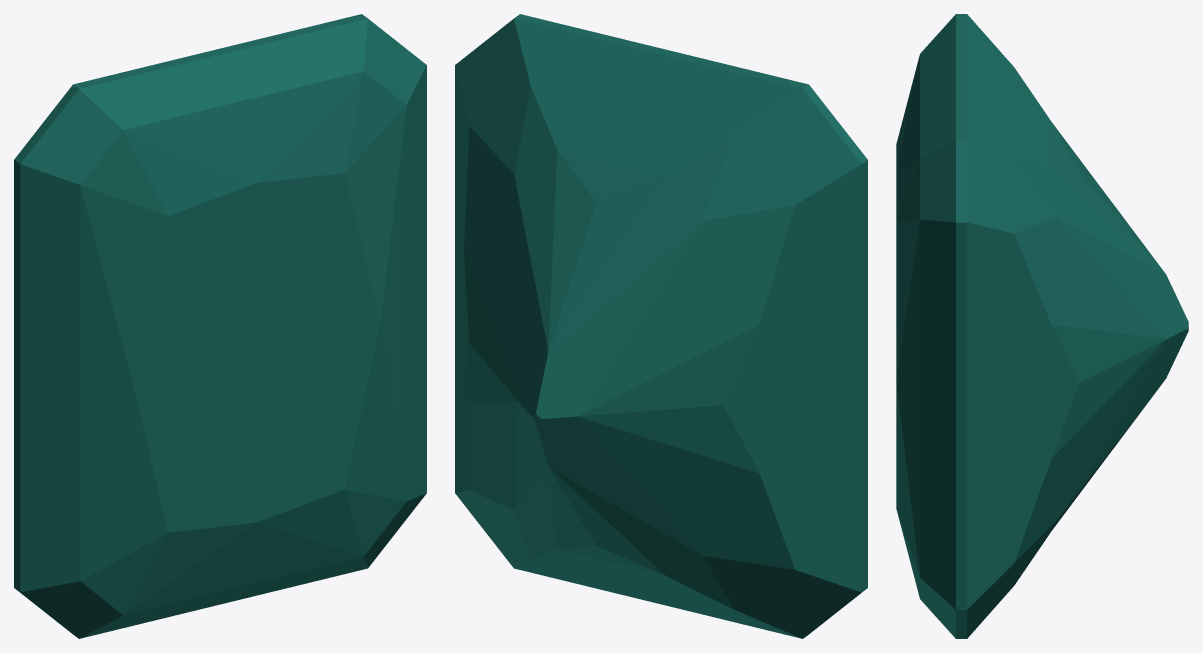
Rendered from elisabeth.glb.
3 renders of one model, left to right at view 1: azimuth 30°, elevation 25°; view 2: azimuth 150°, elevation 25°; view 3: azimuth 270°, elevation 25°, orthographic. The views are drawn at different scales.
Visible parts, largest first — view 1: Elisabeth; view 2: Elisabeth; view 3: Elisabeth.
Boxes of the visible parts, x1,y1,x2,y2 form: Elisabeth: [14, 14, 426, 638]; Elisabeth: [455, 14, 867, 638]; Elisabeth: [896, 14, 1188, 638].
Bounding box in the file's own units: 1.9 × 2.46 × 1.31.
